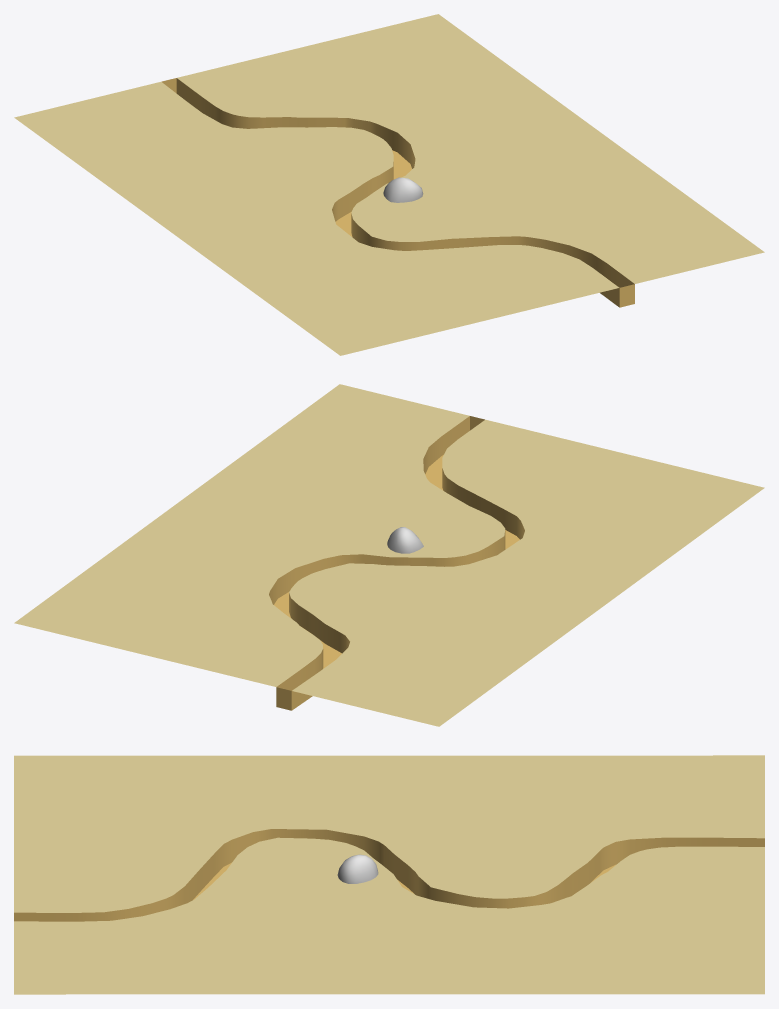
The model's file is map (2).fbx.
The picture shows the model from 3 angles, top to bottom: view 1: azimuth 30°, elevation 25°; view 2: azimuth 150°, elevation 25°; view 3: azimuth 270°, elevation 25°; orthographic projection. The views are drawn at different scales.
Parts seen in each view (by area): view 1: Plane, Cube; view 2: Plane, Cube; view 3: Plane, Cube.
Part boxes in pixels (bbox=[...]): Plane: bbox=[14, 14, 764, 355]; Cube: bbox=[383, 177, 423, 202]; Plane: bbox=[14, 384, 764, 726]; Cube: bbox=[387, 527, 423, 553]; Plane: bbox=[14, 755, 764, 994]; Cube: bbox=[337, 854, 378, 883].
Bounding box in the file's own units: 84.6 × 7 × 112.
Materials: 3 (1 with a texture image).
